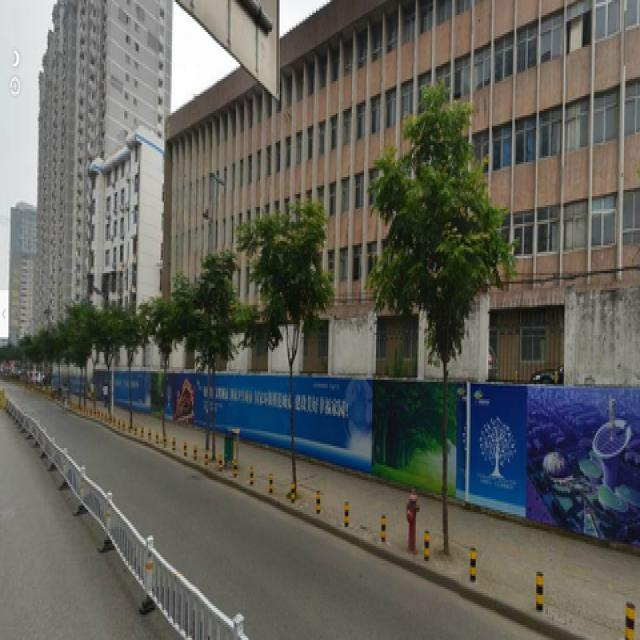koel: (370, 90, 510, 563)
